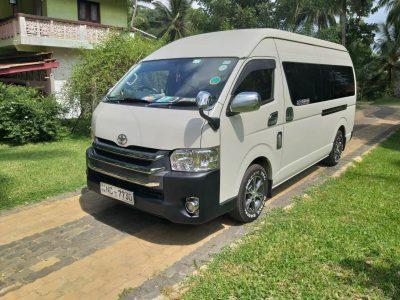car: (84, 24, 356, 227)
